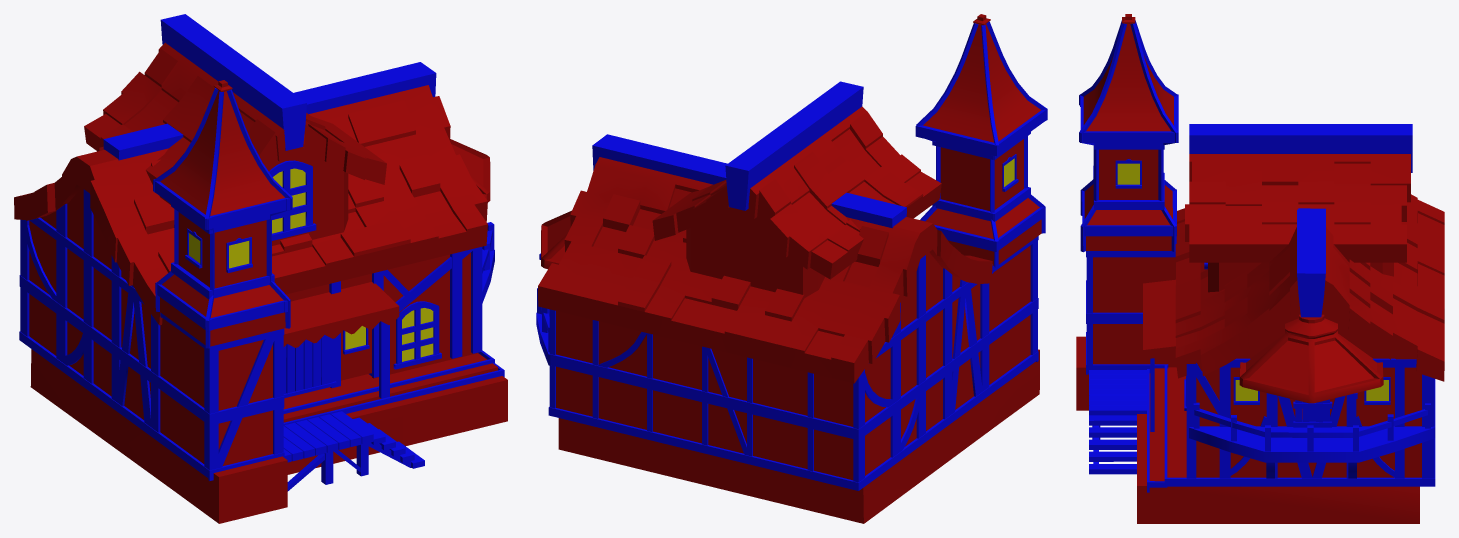
Rendered from 行政楼.fbx.
3 views of the same model, side by side, from view 1: azimuth 30°, elevation 25°; view 2: azimuth 150°, elevation 25°; view 3: azimuth 270°, elevation 25° (orthographic). The views are drawn at different scales.
Visible parts, largest first — view 1: 对象019, Box114, 对象021, Box216, 对象028, 对象020; view 2: Box114, 对象021, 对象019, Box216; view 3: Box114, 对象019, 对象021, Box216, 对象028, 对象023.
Part boxes in pixels (<box>): 对象019: <box>19,14,504,491</box>; Box114: <box>14,42,490,347</box>; 对象021: <box>29,80,477,465</box>; Box216: <box>30,349,507,523</box>; 对象028: <box>189,168,433,361</box>; 对象020: <box>283,335,336,398</box>; Box114: <box>538,106,992,383</box>; 对象021: <box>556,14,1041,480</box>; 对象019: <box>536,21,1047,490</box>; Box216: <box>558,349,1039,523</box>; Box114: <box>1143,154,1444,403</box>; 对象019: <box>1079,20,1435,492</box>; 对象021: <box>1083,14,1421,477</box>; Box216: <box>1076,336,1419,523</box>; 对象028: <box>1117,163,1388,400</box>; 对象023: <box>1293,399,1332,427</box>.
Bounding box in the file's own units: 858 × 826 × 727.
